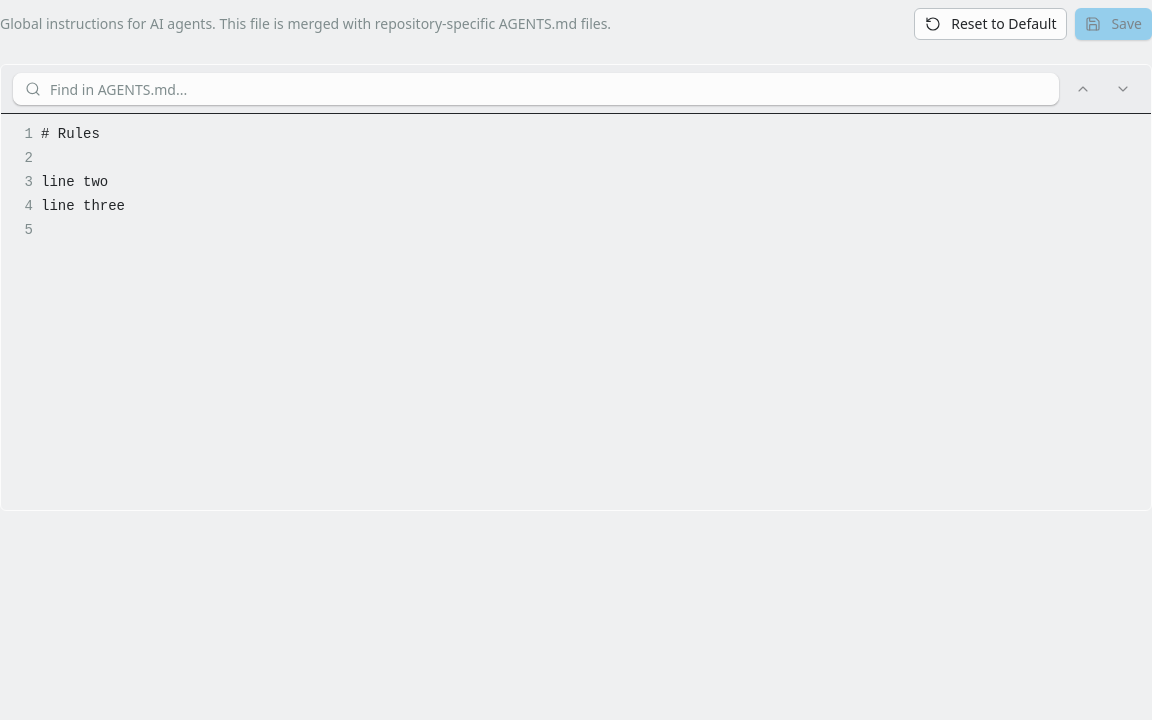
it: AgentsMdEditor › keeps Save disabled until the content changes
Expected: the button "Save" is disabled, x1=1075 y1=8 x2=1151 y2=40
Type "!" into the text box named "AGENTS.md content" at (576, 312), box x1=1 y1=114 x2=1151 y2=510
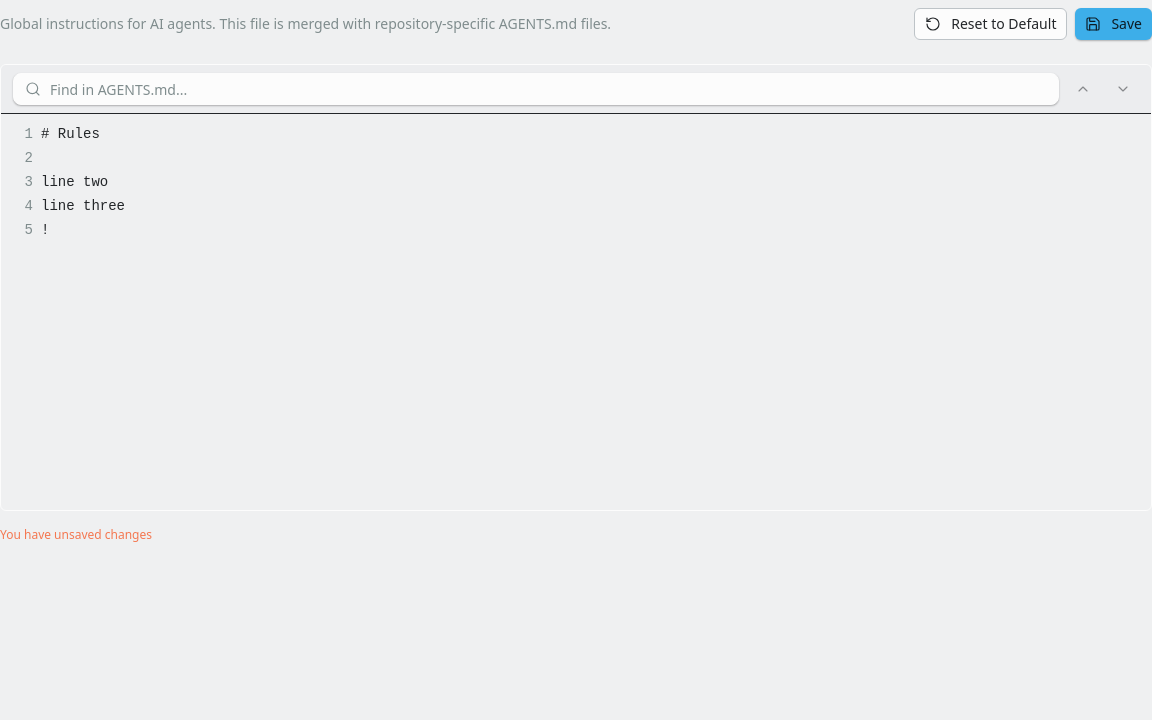
Expected: the button "Save" is enabled, x1=1075 y1=8 x2=1151 y2=40
